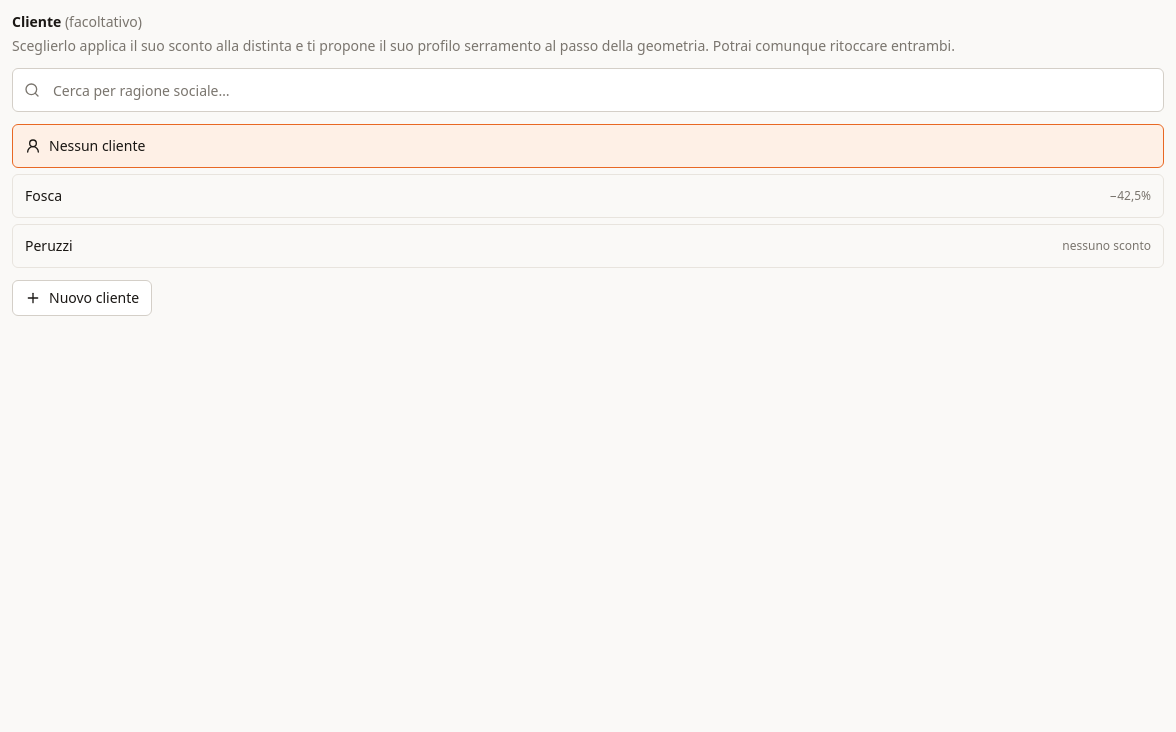
Scenario: CustomerPicker › non crea un cliente con ragione sociale vuota
Click the button "Nuovo cliente": (82, 298) [12,280,152,316]
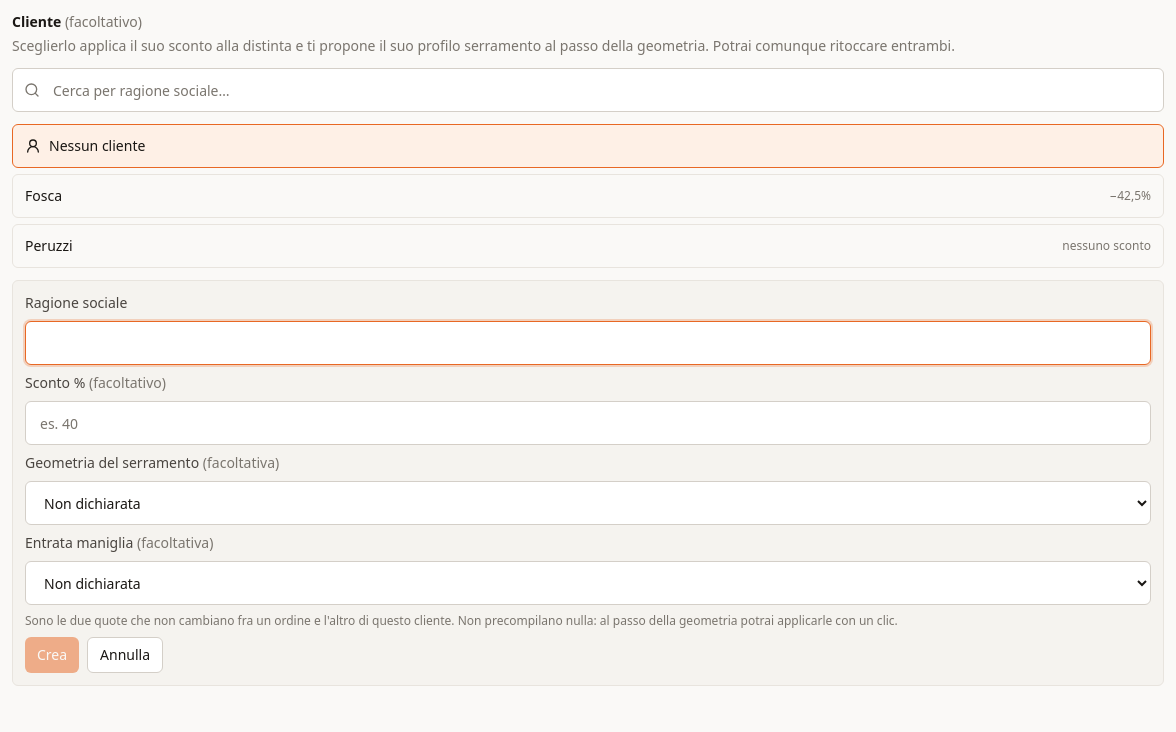
Expected: the button "Crea" is disabled, [25,637,79,673]
